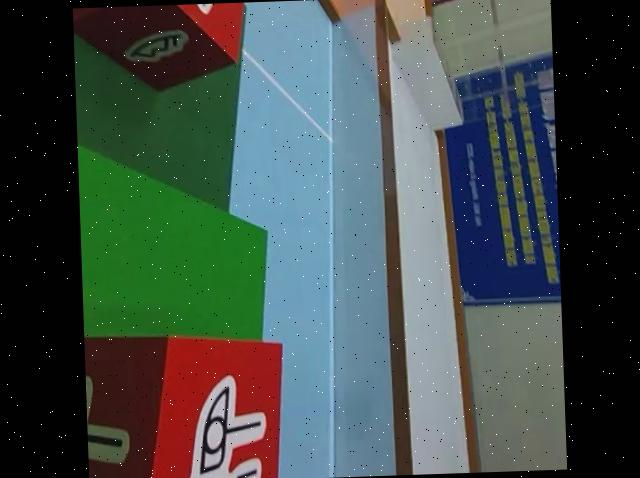R2 Real: (84, 326, 293, 478), (73, 3, 252, 97)
